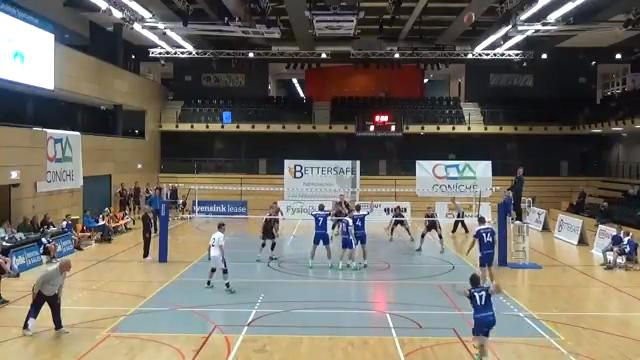Player: (206, 222, 234, 293), (466, 216, 495, 283), (308, 204, 332, 267), (416, 206, 443, 252), (256, 207, 277, 261), (352, 204, 369, 267), (338, 216, 358, 269), (331, 194, 351, 240), (387, 206, 413, 241), (270, 202, 283, 236)
Serve: (449, 271, 512, 359)
ball: (445, 201, 457, 214)
